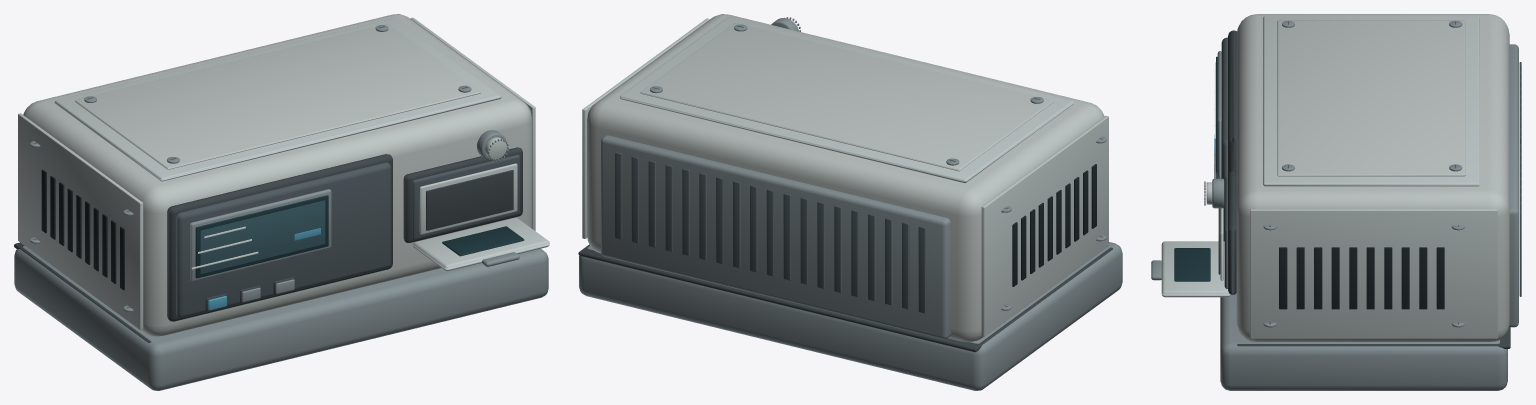
Rendered from accepted-equipment.glb.
The picture shows the model from 3 angles, left to right: view 1: azimuth 30°, elevation 25°; view 2: azimuth 150°, elevation 25°; view 3: azimuth 270°, elevation 25°; orthographic projection.
Visible parts, largest first — view 1: Instrument · Warm grey powder coated steel, Instrument · Recessed anodised edges, Instrument · Brushed stainless steel, Instrument · Charcoal anodised console, Instrument · Rubber seals and feet, Instrument · Inactive cyan-grey LCD, Instrument · Deep ventilation cavity, Instrument · Smoked optical glass; view 2: Instrument · Warm grey powder coated steel, Instrument · Recessed anodised edges, Instrument · Brushed stainless steel, Instrument · Charcoal anodised console, Instrument · Deep ventilation cavity, Instrument · Rubber seals and feet; view 3: Instrument · Warm grey powder coated steel, Instrument · Brushed stainless steel, Instrument · Recessed anodised edges, Instrument · Deep ventilation cavity, Instrument · Rubber seals and feet, Instrument · Charcoal anodised console, Instrument · Smoked optical glass.
Boxes of the visible parts, x1=… form: Instrument · Warm grey powder coated steel: x1=23, y1=14, x2=531, y2=336; Instrument · Recessed anodised edges: x1=14, y1=25, x2=548, y2=390; Instrument · Brushed stainless steel: x1=18, y1=17, x2=549, y2=330; Instrument · Charcoal anodised console: x1=176, y1=154, x2=520, y2=317; Instrument · Rubber seals and feet: x1=14, y1=26, x2=522, y2=342; Instrument · Inactive cyan-grey LCD: x1=200, y1=200, x2=325, y2=274; Instrument · Deep ventilation cavity: x1=41, y1=169, x2=124, y2=290; Instrument · Smoked optical glass: x1=195, y1=195, x2=524, y2=278; Instrument · Warm grey powder coated steel: x1=587, y1=14, x2=1104, y2=342; Instrument · Recessed anodised edges: x1=579, y1=17, x2=1122, y2=390; Instrument · Brushed stainless steel: x1=582, y1=17, x2=1108, y2=336; Instrument · Charcoal anodised console: x1=615, y1=152, x2=925, y2=313; Instrument · Deep ventilation cavity: x1=1012, y1=164, x2=1096, y2=286; Instrument · Rubber seals and feet: x1=578, y1=26, x2=1112, y2=352; Instrument · Warm grey powder coated steel: x1=1236, y1=14, x2=1509, y2=341; Instrument · Brushed stainless steel: x1=1161, y1=16, x2=1497, y2=338; Instrument · Recessed anodised edges: x1=1151, y1=20, x2=1518, y2=390; Instrument · Deep ventilation cavity: x1=1279, y1=247, x2=1444, y2=309; Instrument · Rubber seals and feet: x1=1216, y1=21, x2=1510, y2=348; Instrument · Charcoal anodised console: x1=1221, y1=37, x2=1521, y2=296; Instrument · Smoked optical glass: x1=1174, y1=56, x2=1217, y2=281.
Bounding box in the file's own units: 1.82 × 0.8645 × 1.42.
